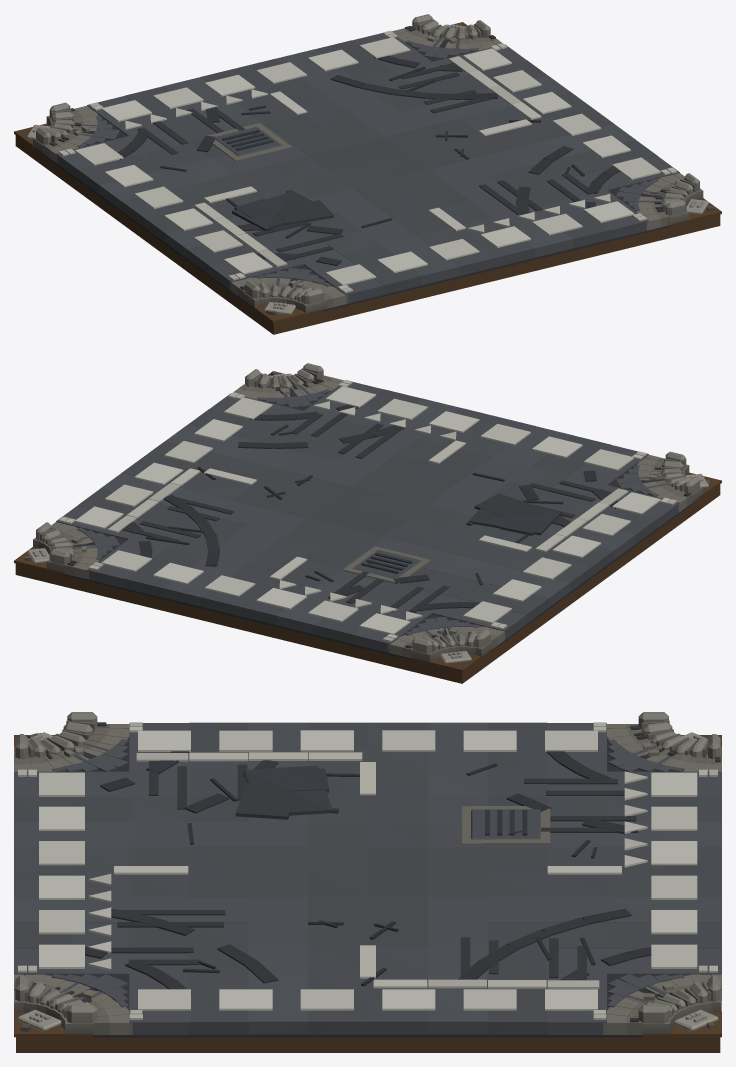
The model's file is road-intersection-01.glb.
3 renders of one model, top to bottom at view 1: azimuth 30°, elevation 25°; view 2: azimuth 150°, elevation 25°; view 3: azimuth 270°, elevation 25°, orthographic. The views are drawn at different scales.
Parts seen in each view (by area): view 1: road_intersection_01; view 2: road_intersection_01; view 3: road_intersection_01.
Part boxes in pixels (x1,y1,x2,y2): road_intersection_01: (14, 14, 721, 334); road_intersection_01: (14, 363, 721, 683); road_intersection_01: (14, 712, 721, 1052).
Bounding box in the file's own units: 4 × 0.2808 × 4.
